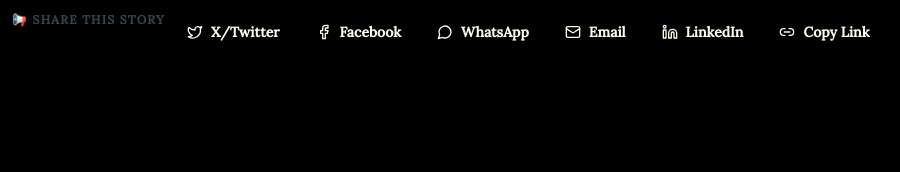
Test: SocialShareButtons › shows Copied! feedback after copying
Click the button titled "Copy link to clipboard".
click(824, 32)  # box [765, 12, 884, 52]
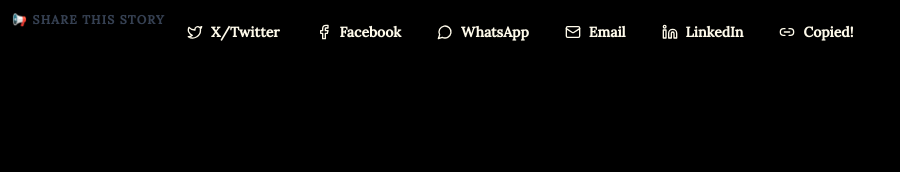
Expected: the text "Copied!" is shown, [803, 22, 853, 42]
